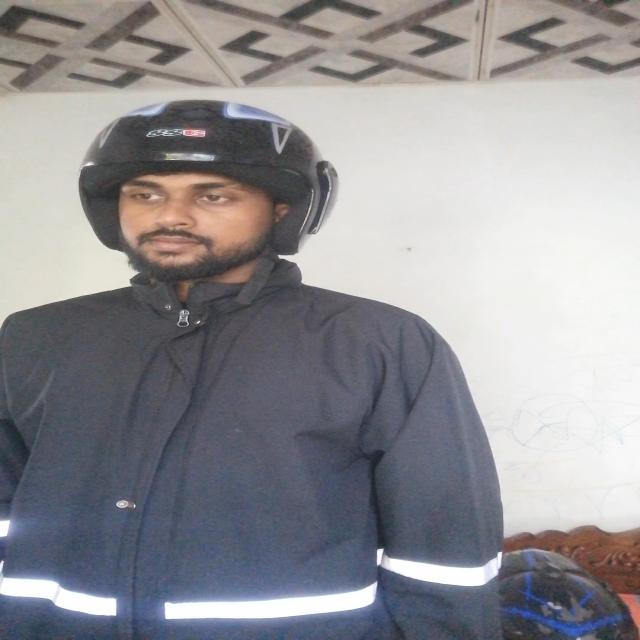Helmet_Wearer: (74, 97, 345, 290)
Jacket_Wearer: (0, 276, 530, 640)
Person: (0, 97, 551, 640)
